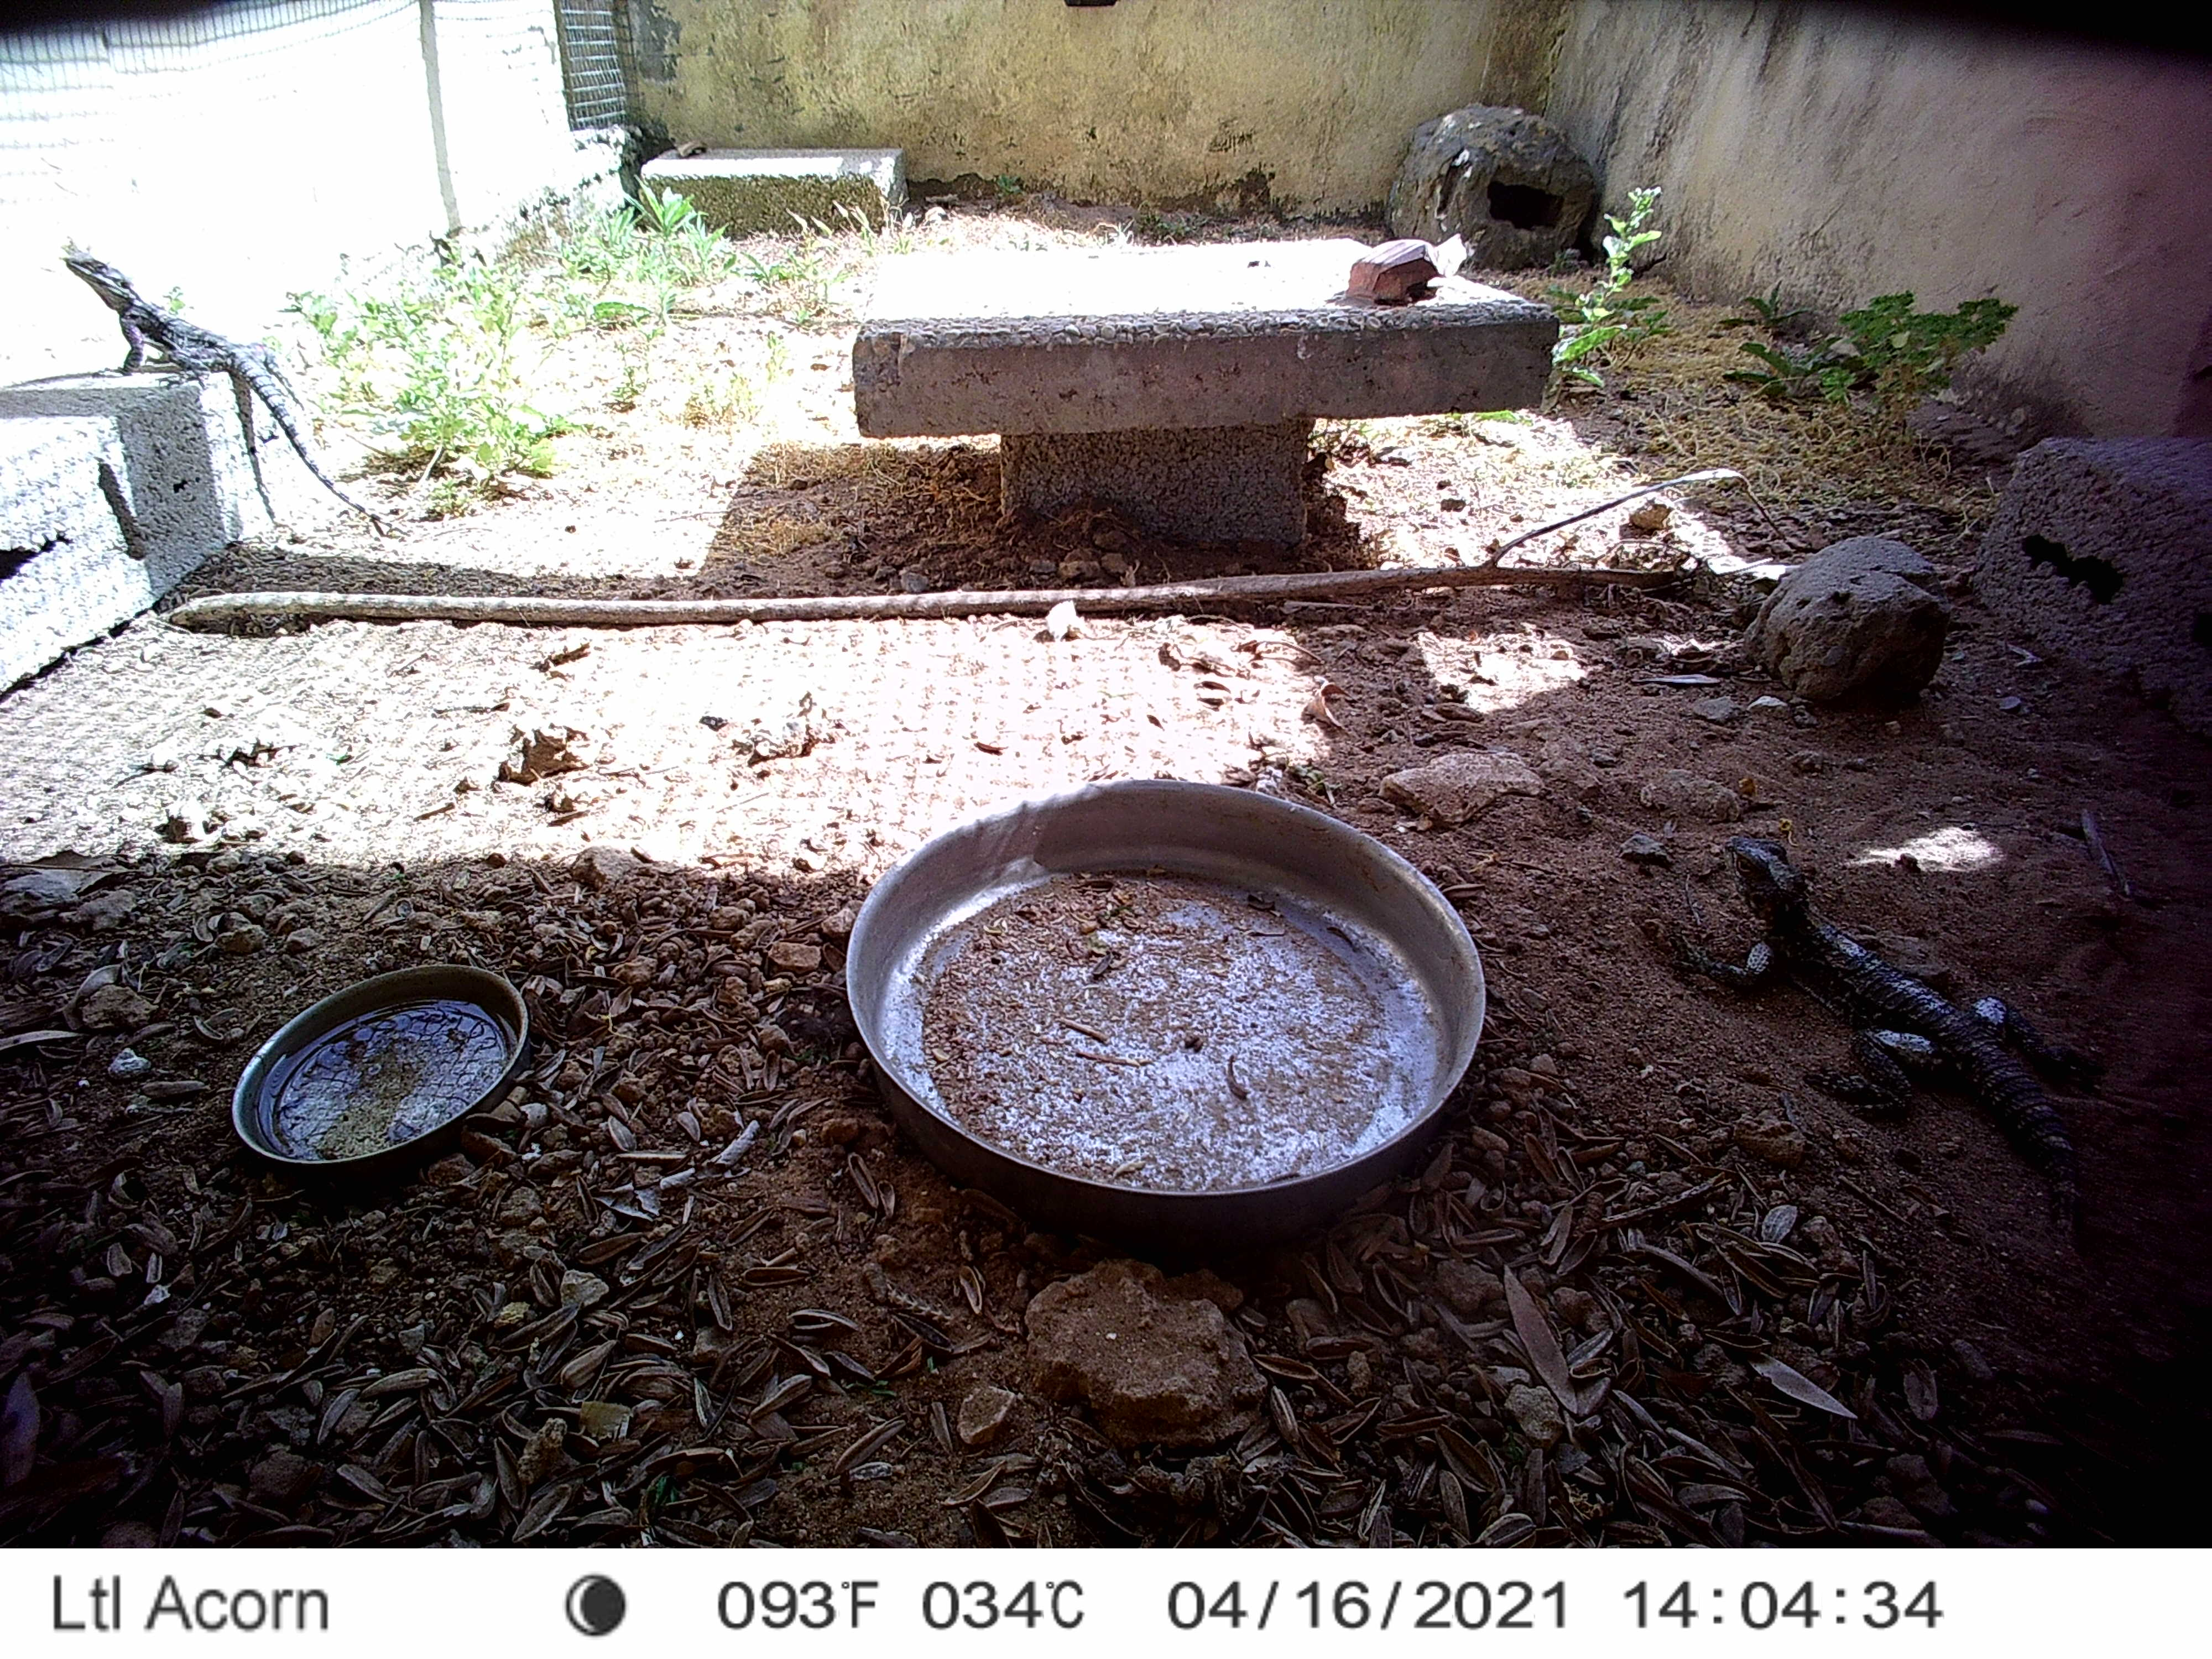lizard: (1667, 830, 2111, 1307), (61, 247, 413, 537)
